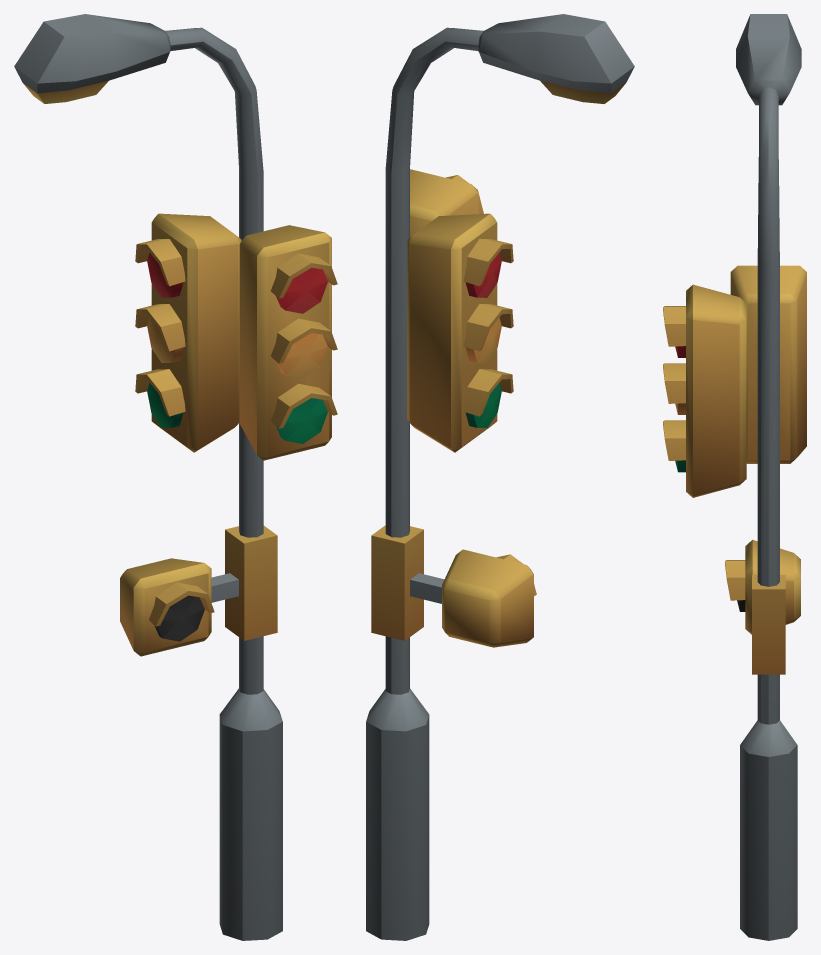
The model's file is city-trafficlight-b.glb.
The picture shows the model from 3 angles, left to right: view 1: azimuth 30°, elevation 25°; view 2: azimuth 150°, elevation 25°; view 3: azimuth 270°, elevation 25°; orthographic projection. The views are drawn at different scales.
Visible parts, largest first — view 1: trafficlight_B; view 2: trafficlight_B; view 3: trafficlight_B.
Boxes of the visible parts, box(x1,y1,x2,y2) form: trafficlight_B: box(14, 14, 337, 940); trafficlight_B: box(366, 14, 634, 940); trafficlight_B: box(663, 14, 806, 940).
Bounding box in the file's own units: 0.2791 × 0.9599 × 0.1506.
